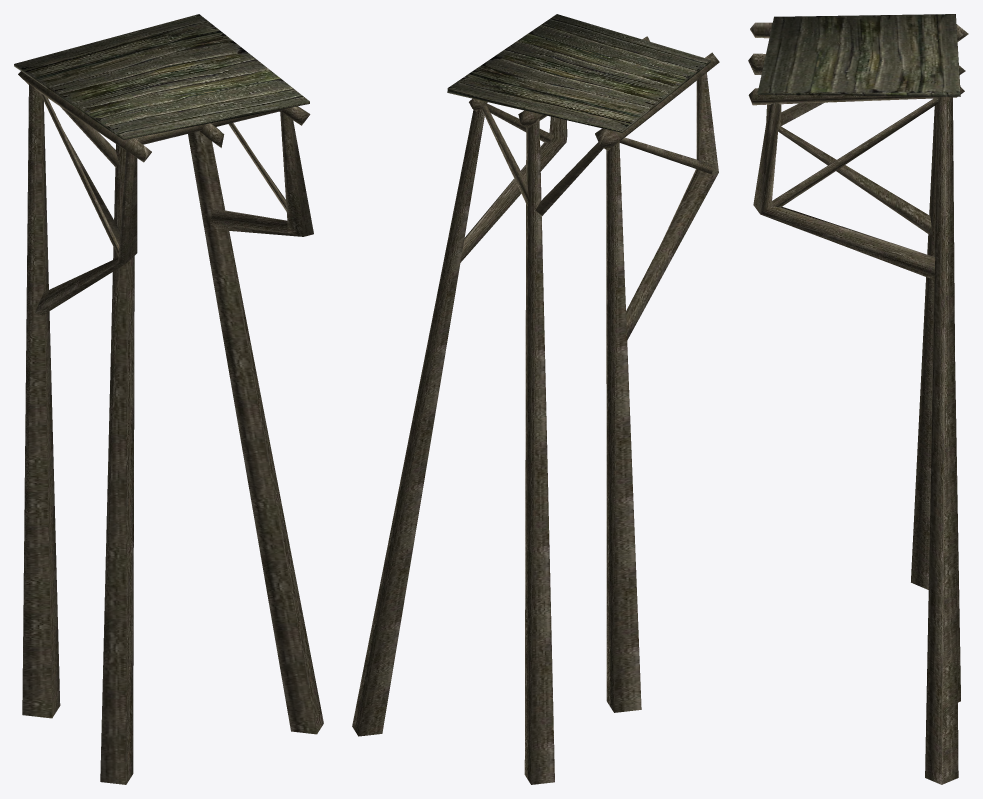
The model's file is MIN_LOB_WORKPLANK_4X6M.glb.
The picture shows the model from 3 angles, left to right: view 1: azimuth 30°, elevation 25°; view 2: azimuth 150°, elevation 25°; view 3: azimuth 270°, elevation 25°; orthographic projection. The views are drawn at different scales.
Parts seen in each view (by area): view 1: Mesh; view 2: Mesh; view 3: Mesh.
Part boxes in pixels (<box>): Mesh: <box>14,14,323,784</box>; Mesh: <box>352,14,719,784</box>; Mesh: <box>748,14,968,784</box>.
Size of the model in its own units: 8.84 by 20.16 by 6.22.
Materials: 2 (2 with a texture image).
